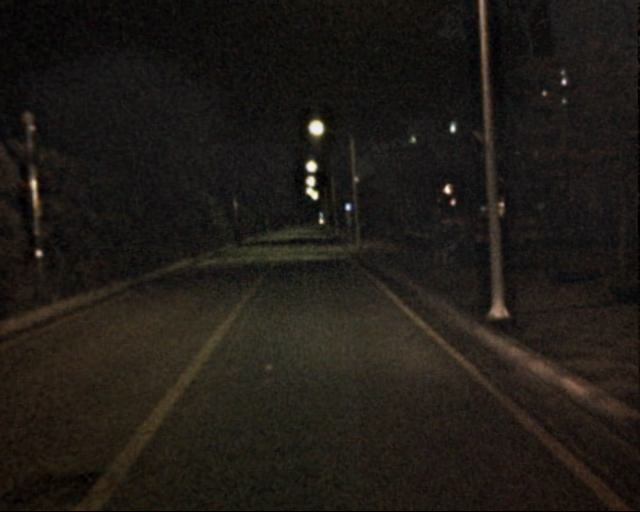person: (440, 214, 462, 267), (429, 217, 450, 267)
